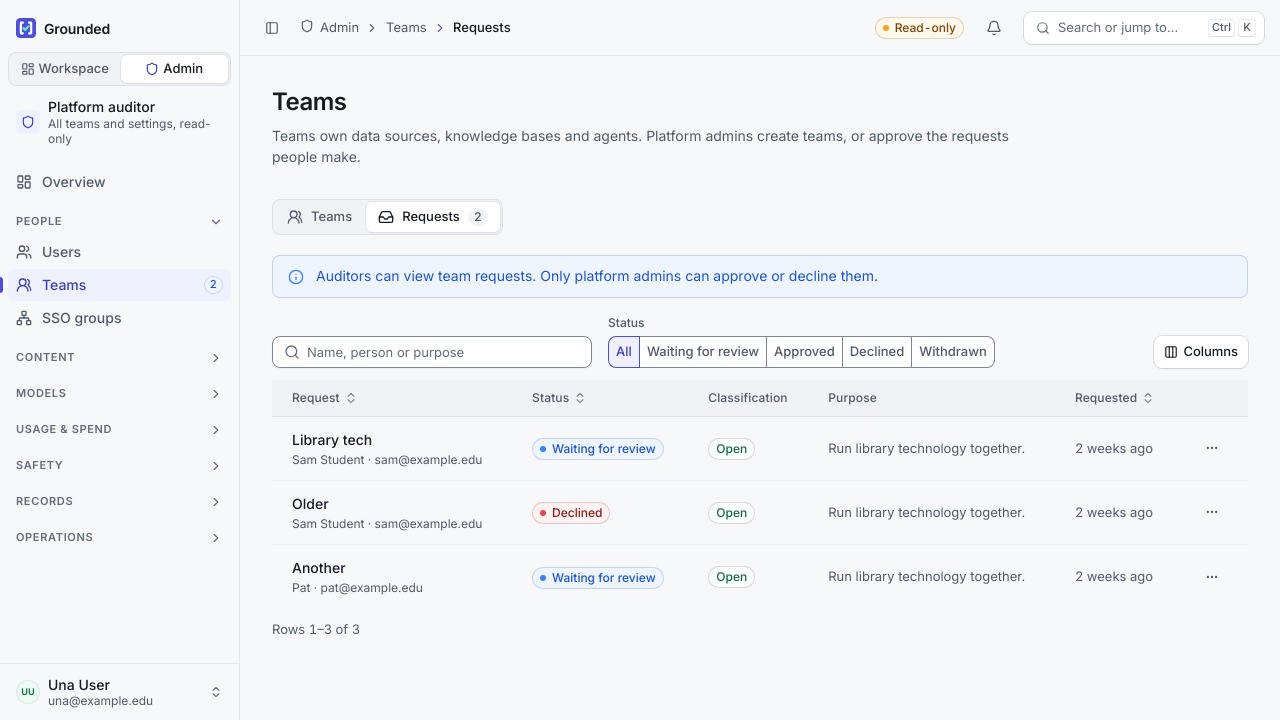
Admin → Teams › Requests › is read only for an auditor, and a decided request can only be viewed
Expected: the text "Auditors can view team requests" is shown, [316, 267, 878, 284]
Click the button named "Actions for Library tech" at (1212, 448), box [1196, 432, 1228, 464]
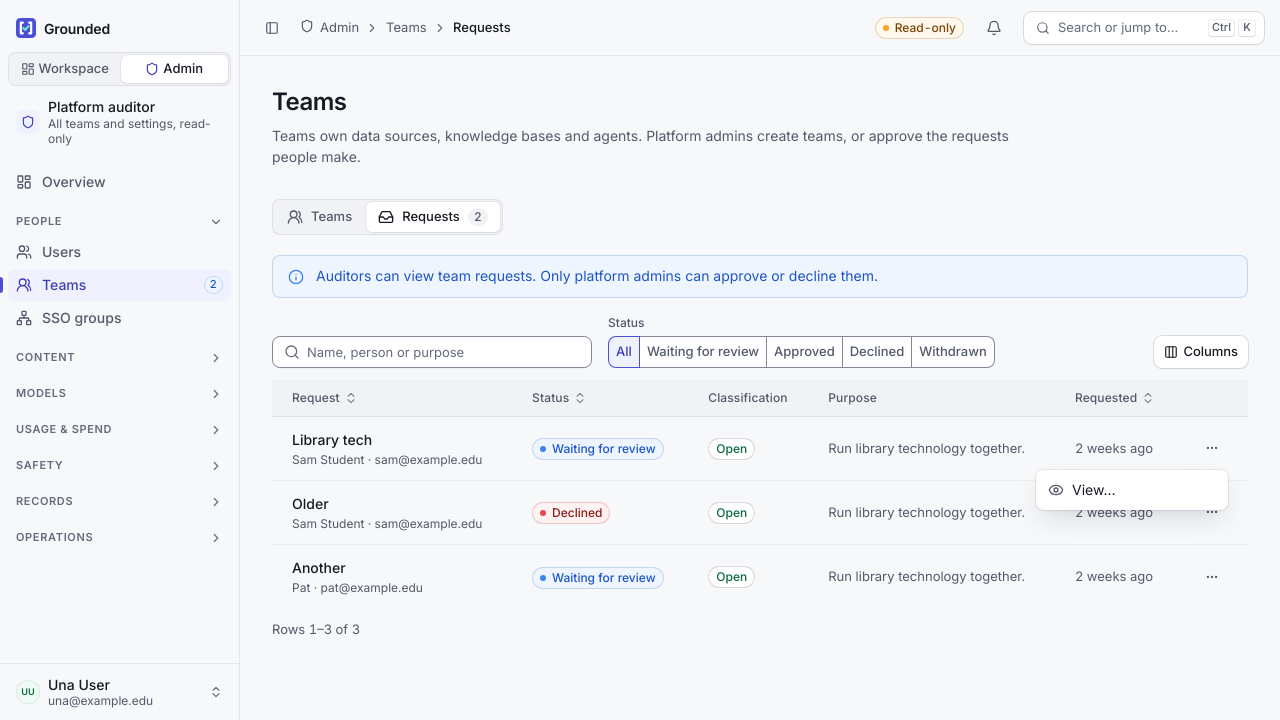
Result: the menu item "View…" is shown at [1048, 481, 1116, 498]
